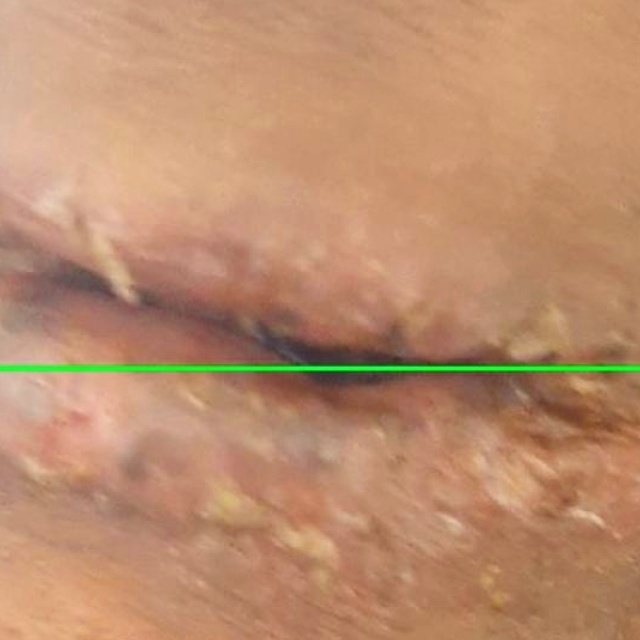Contact Dermatitis: (0, 0, 639, 369)
